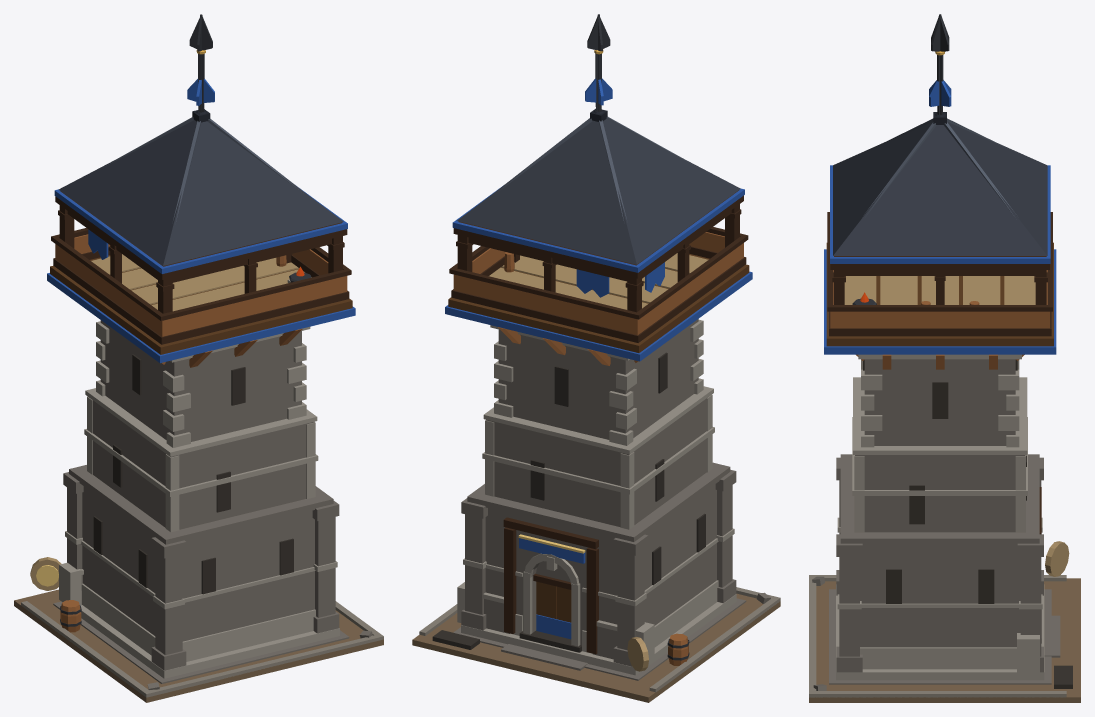
The picture shows the model from 3 angles, left to right: view 1: azimuth 30°, elevation 25°; view 2: azimuth 150°, elevation 25°; view 3: azimuth 270°, elevation 25°; orthographic projection. The views are drawn at different scales.
Visible parts, largest first — view 1: AT-主体, AT-team; view 2: AT-主体, AT-team; view 3: AT-主体, AT-team.
Part boxes in pixels (x1,y1,x2,y2): AT-主体: (14, 14, 383, 702); AT-team: (47, 79, 355, 363); AT-主体: (412, 14, 780, 702); AT-team: (445, 78, 752, 639); AT-主体: (809, 14, 1080, 702); AT-team: (824, 80, 1056, 354).
Bounding box in the file's own units: 7.08 × 17.46 × 6.84.
Materials: 4 (2 with a texture image).
